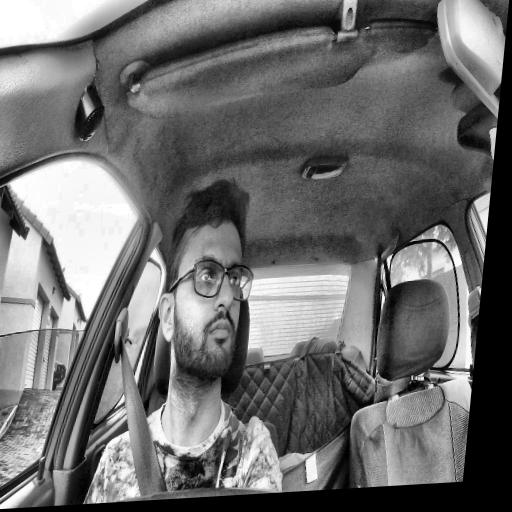awake: (152, 176, 264, 384)
